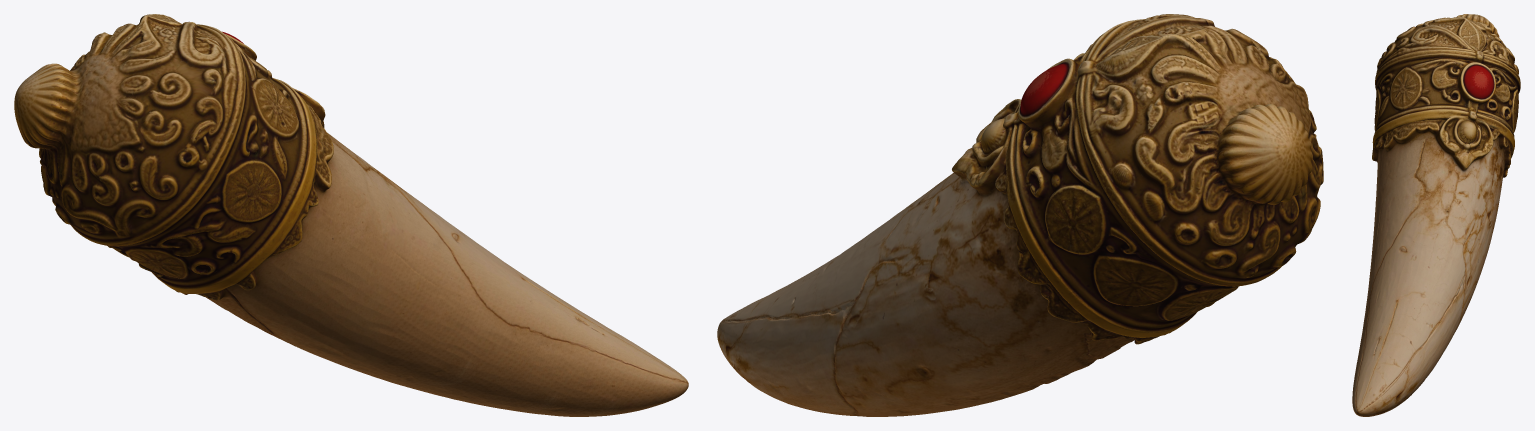
Rendered from tripo_convert_c04684a3-8cde-423d-88a2-08098155bb2f.fbx.
The picture shows the model from 3 angles, left to right: view 1: azimuth 30°, elevation 25°; view 2: azimuth 150°, elevation 25°; view 3: azimuth 270°, elevation 25°; orthographic projection. The views are drawn at different scales.
Visible parts, largest first — view 1: tripo_node_c04684a3; view 2: tripo_node_c04684a3; view 3: tripo_node_c04684a3.
Boxes of the visible parts, left/top/right/bottom form: tripo_node_c04684a3: left=14, top=14, right=688, bottom=416; tripo_node_c04684a3: left=717, top=14, right=1323, bottom=416; tripo_node_c04684a3: left=1352, top=14, right=1520, bottom=416.
Size of the model in its own units: 0.9997 by 0.73 by 0.4087.
Materials: 1 (1 with a texture image).
